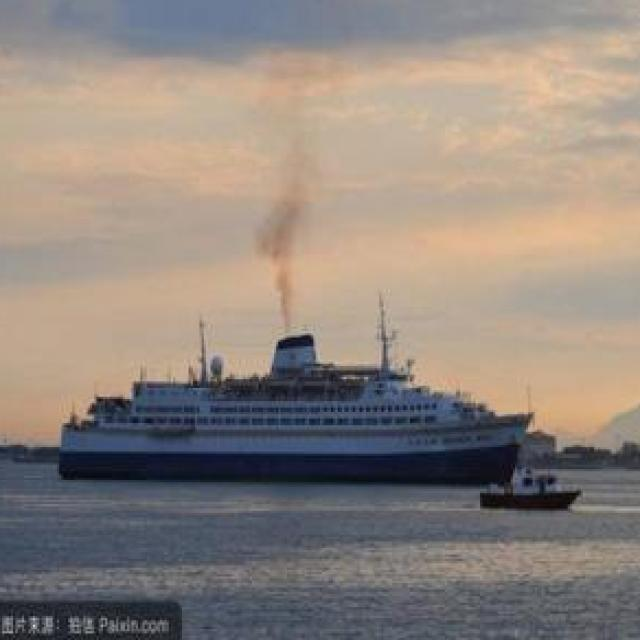houseboat: (472, 458, 581, 512)
passenger ship: (58, 321, 519, 489)
